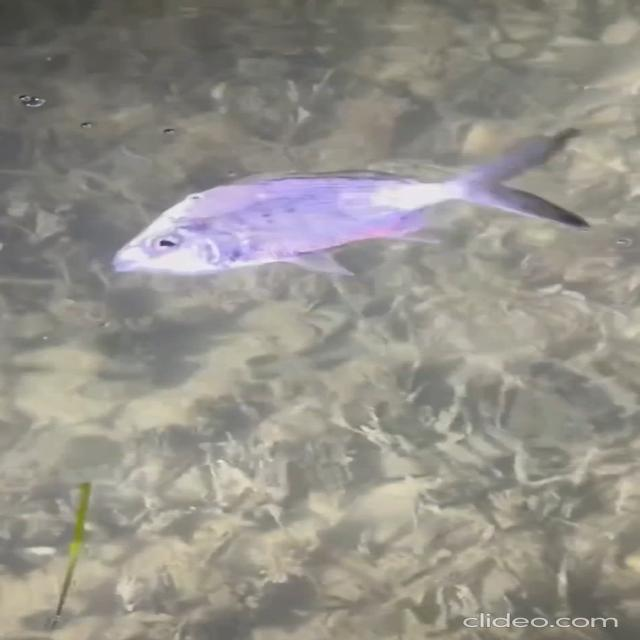fish: (100, 127, 596, 281)
